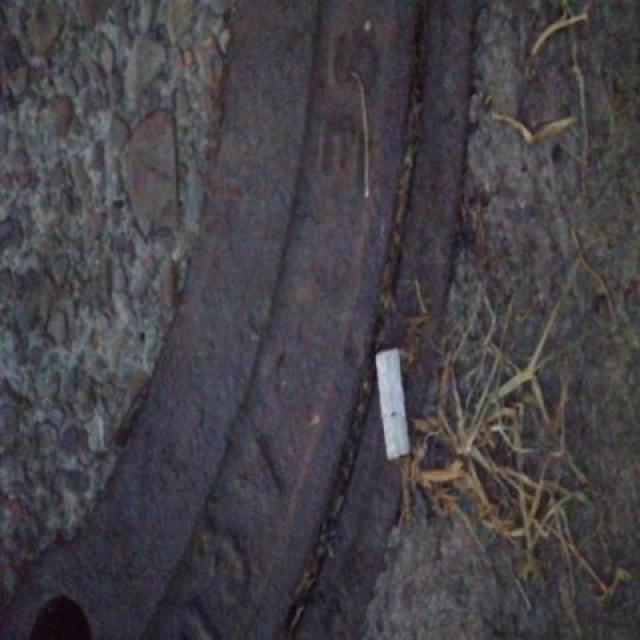non-organic waste: (372, 344, 416, 463)
